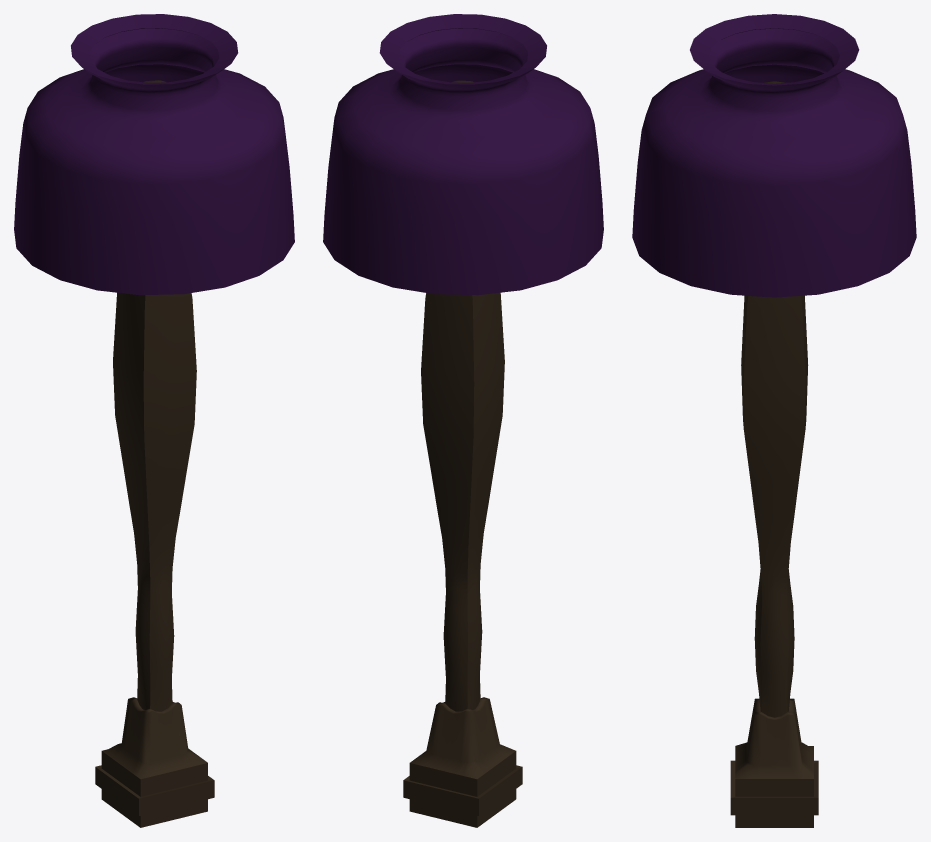
Rendered from TallLamp.fbx.
3 views of the same model, side by side, from view 1: azimuth 30°, elevation 25°; view 2: azimuth 150°, elevation 25°; view 3: azimuth 270°, elevation 25° (orthographic).
Parts seen in each view (by area): view 1: polySurface6; view 2: polySurface6; view 3: polySurface6.
Boxes of the visible parts, bbox=[...] form: polySurface6: bbox=[14, 14, 294, 827]; polySurface6: bbox=[323, 14, 603, 827]; polySurface6: bbox=[632, 14, 916, 827].
Bounding box in the file's own units: 5.73 × 16.93 × 5.73.
